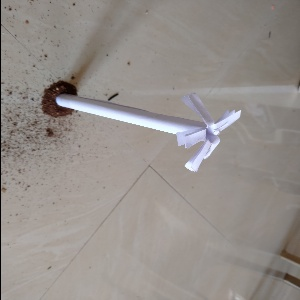weed: (52, 78, 240, 171)
